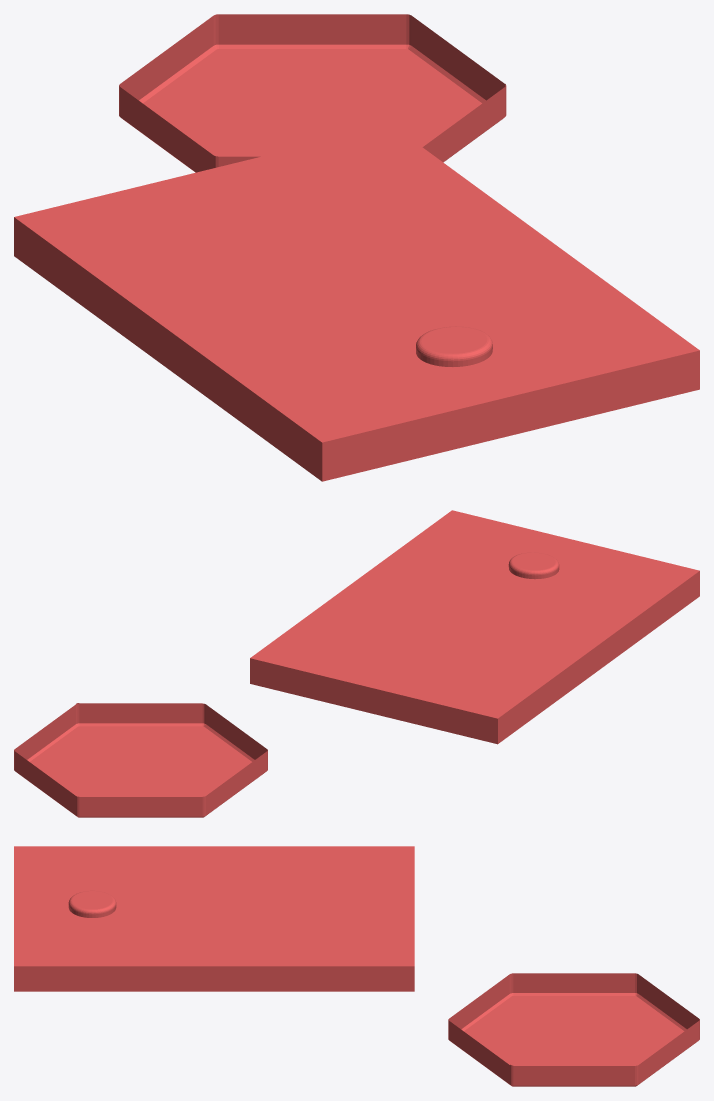
The model's file is 2_door__clothes1.obj.
3 renders of one model, top to bottom at view 1: azimuth 30°, elevation 25°; view 2: azimuth 150°, elevation 25°; view 3: azimuth 270°, elevation 25°, orthographic. The views are drawn at different scales.
Visible parts, largest first — view 1: 2_door__clothes1; view 2: 2_door__clothes1; view 3: 2_door__clothes1.
Part boxes in pixels (x1,y1,x2,y2): 2_door__clothes1: (14, 14, 699, 481); 2_door__clothes1: (14, 510, 699, 817); 2_door__clothes1: (14, 846, 699, 1086).
Bounding box in the file's own units: 0.0711 × 0.0126 × 0.1146.
